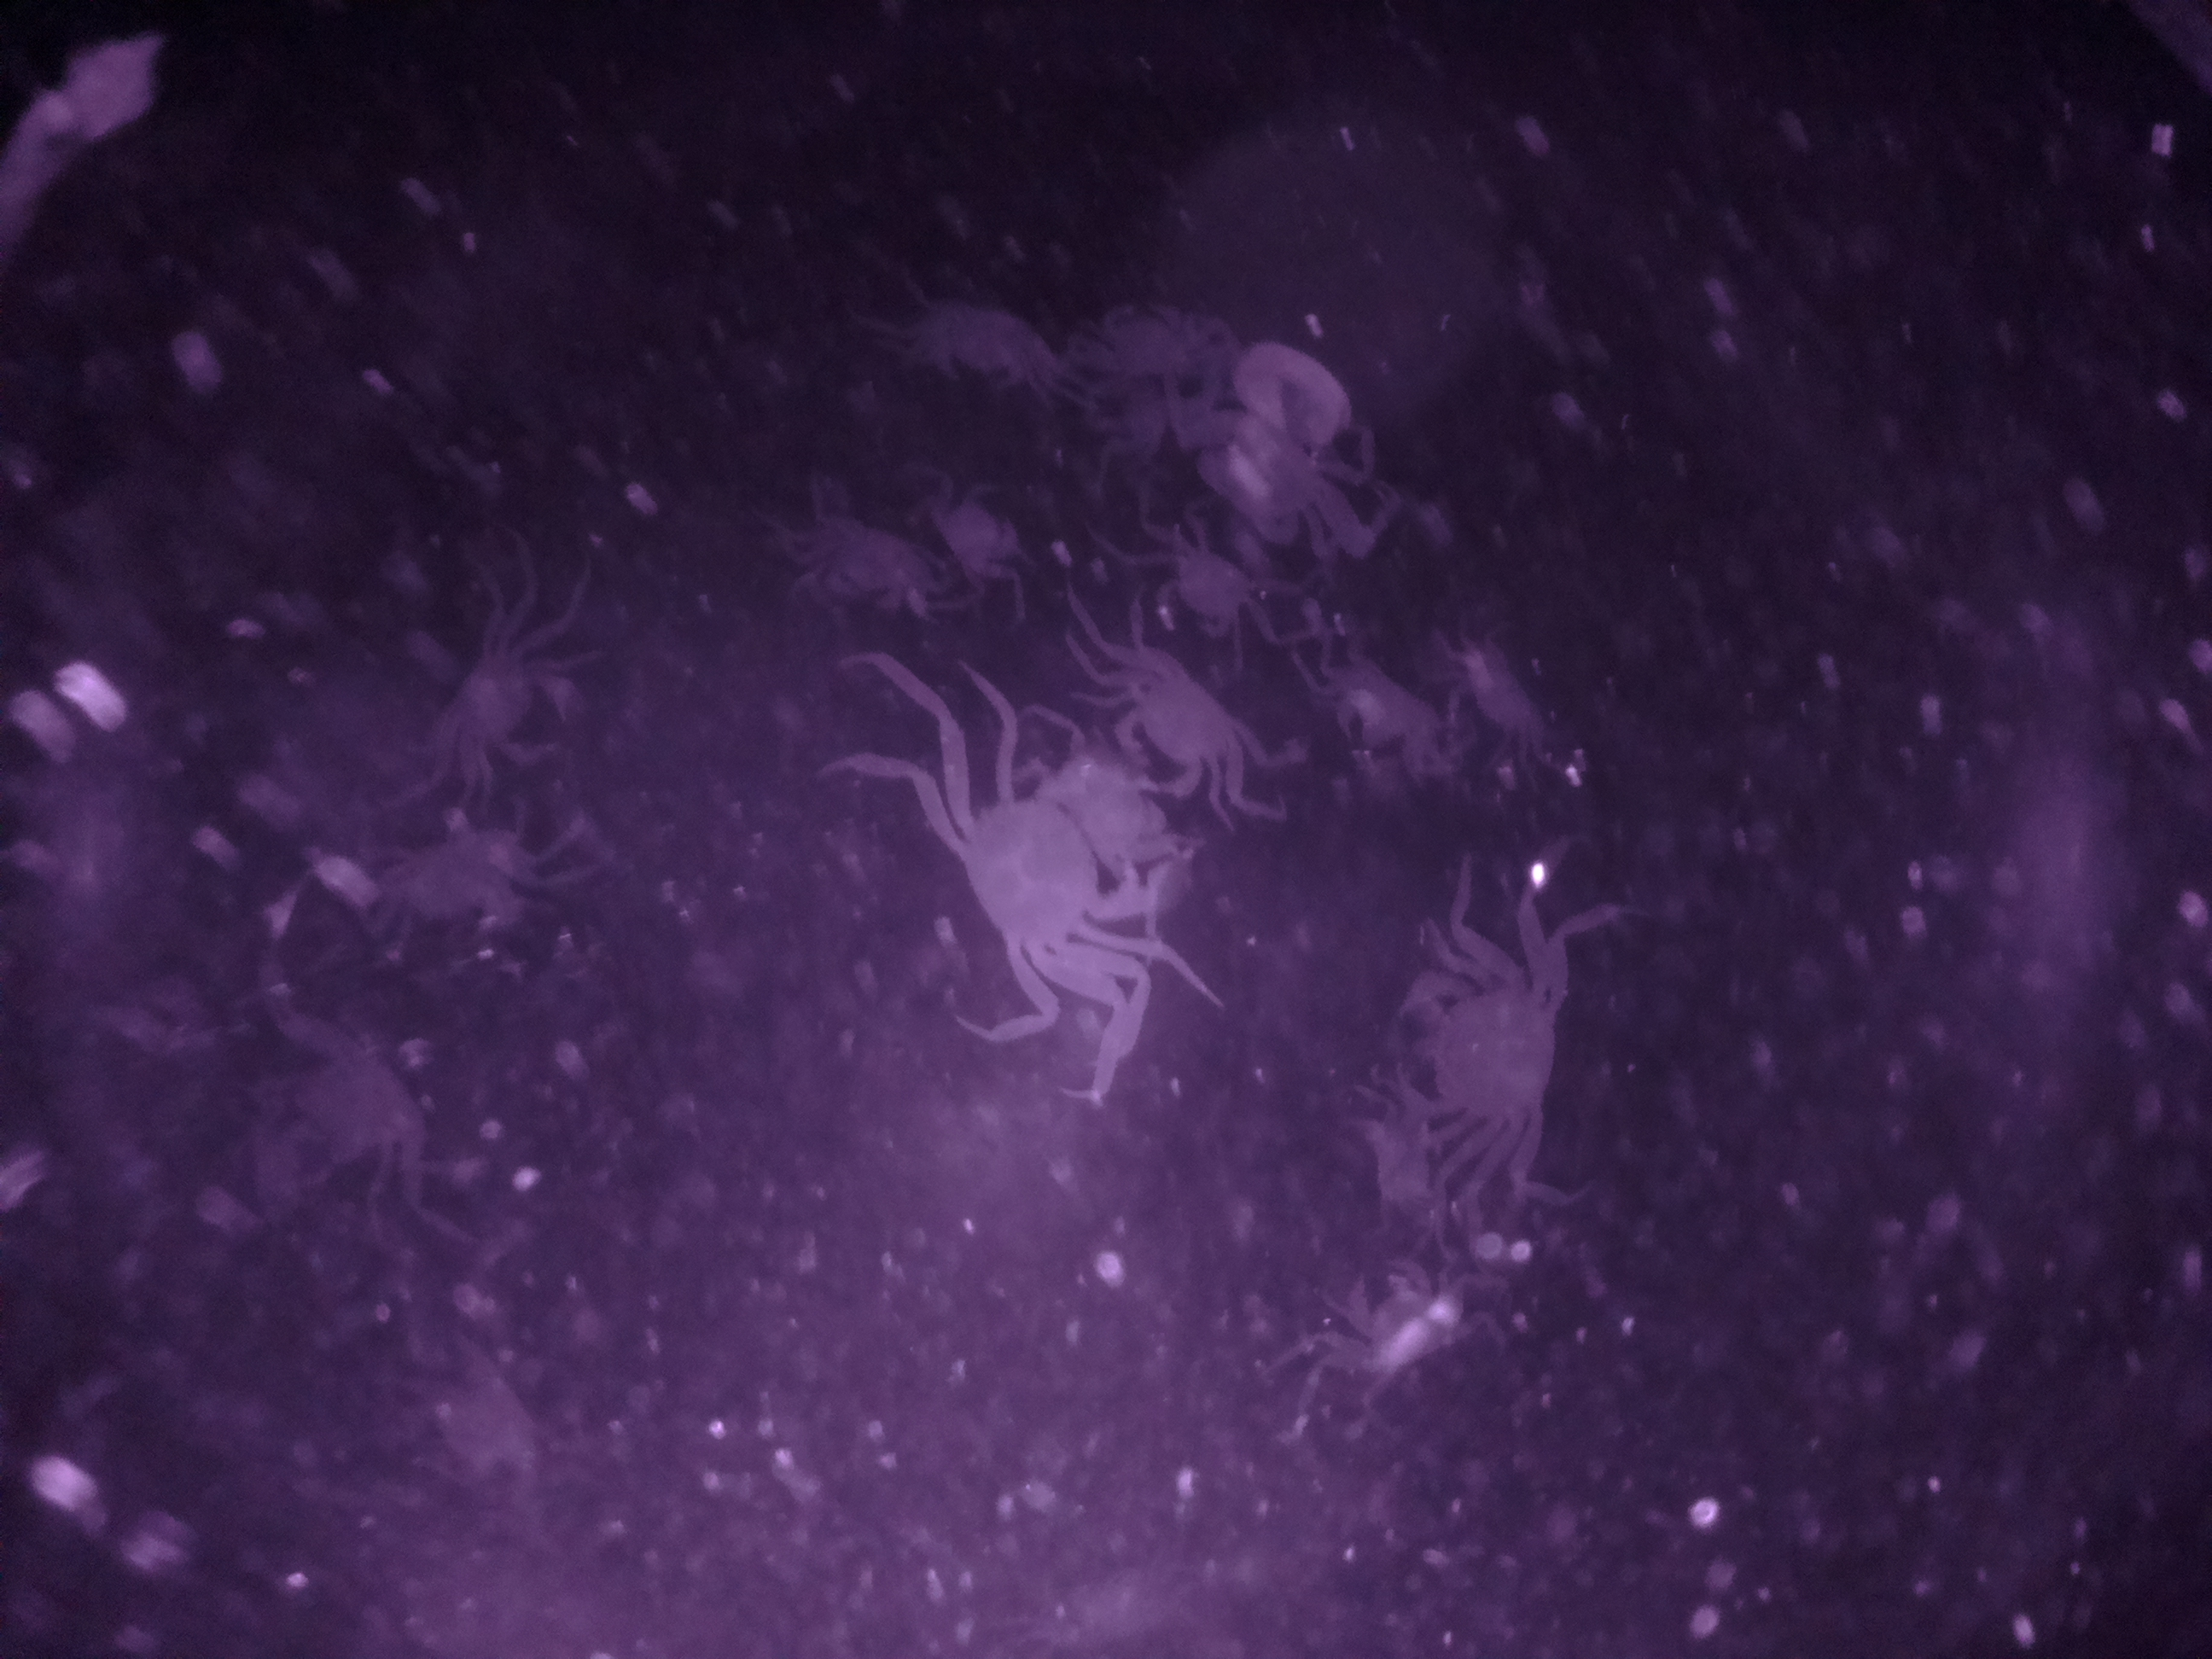Crab: (1378, 929, 1585, 1166), (1080, 648, 1261, 814), (432, 629, 599, 788), (1130, 511, 1277, 666), (789, 497, 942, 633)
